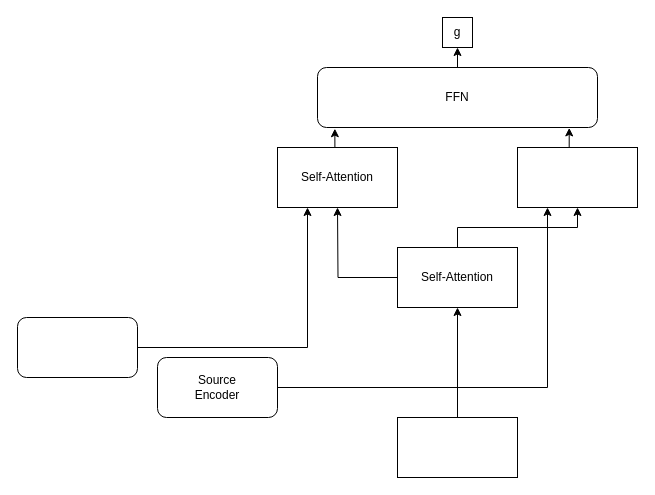
Image size: 655x495. Some labels were removed from this diagram. The box of each missing label's shape, as (x1, y1, x2, y2) in pixels:
Context Encoder: (16, 316, 138, 378)
Encoder-Decoder Attention: (516, 146, 638, 208)
Target Embedding: (396, 416, 518, 478)
